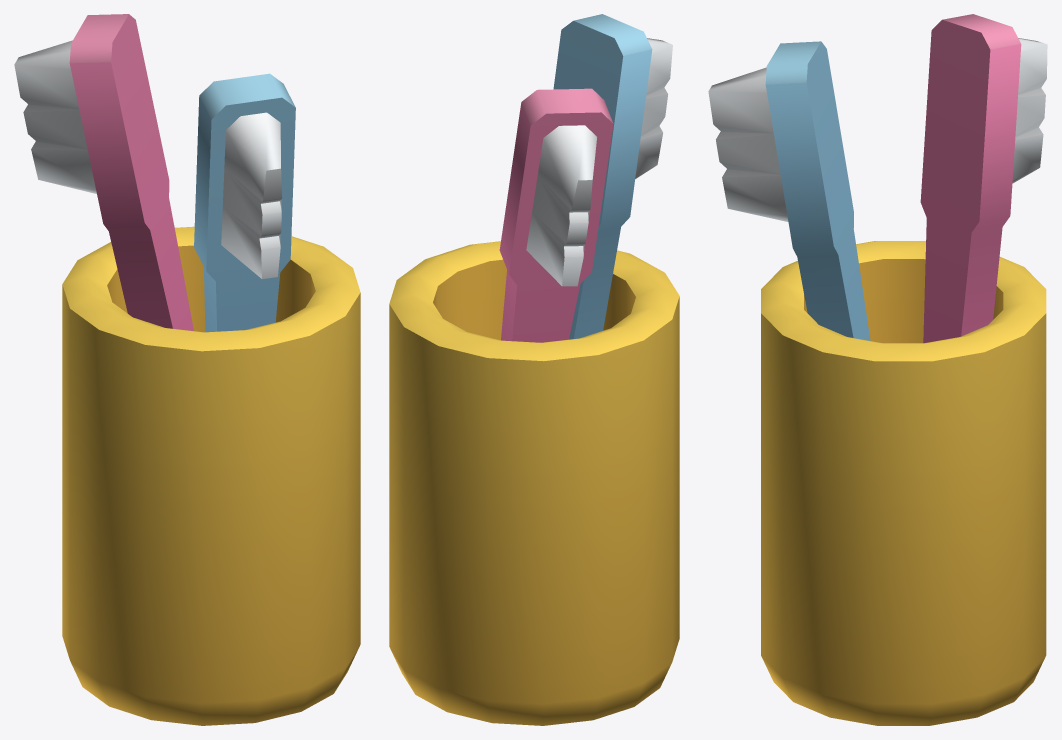
File: toothbrush_cup_decorated.fbx
The picture shows the model from 3 angles, left to right: view 1: azimuth 30°, elevation 25°; view 2: azimuth 150°, elevation 25°; view 3: azimuth 270°, elevation 25°; orthographic projection. The views are drawn at different scales.
Visible parts, largest first — view 1: toothbrush_cup_decorated; view 2: toothbrush_cup_decorated; view 3: toothbrush_cup_decorated.
Part boxes in pixels (x1=…): toothbrush_cup_decorated: x1=14, y1=14, x2=360, y2=725; toothbrush_cup_decorated: x1=389, y1=14, x2=679, y2=725; toothbrush_cup_decorated: x1=708, y1=14, x2=1047, y2=725.
Bounding box in the file's own units: 0.2897 × 0.7016 × 0.3425.
